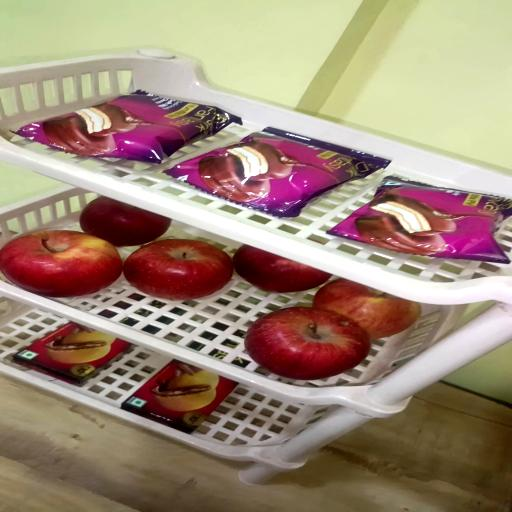Apple: (246, 307, 371, 382), (0, 232, 122, 299), (312, 279, 422, 341), (126, 240, 235, 302), (234, 246, 333, 294), (80, 198, 170, 250)
Choco Fills: (123, 360, 239, 432), (13, 322, 131, 385)
Choco Pie: (170, 125, 392, 218), (13, 90, 240, 164), (326, 178, 512, 264)
